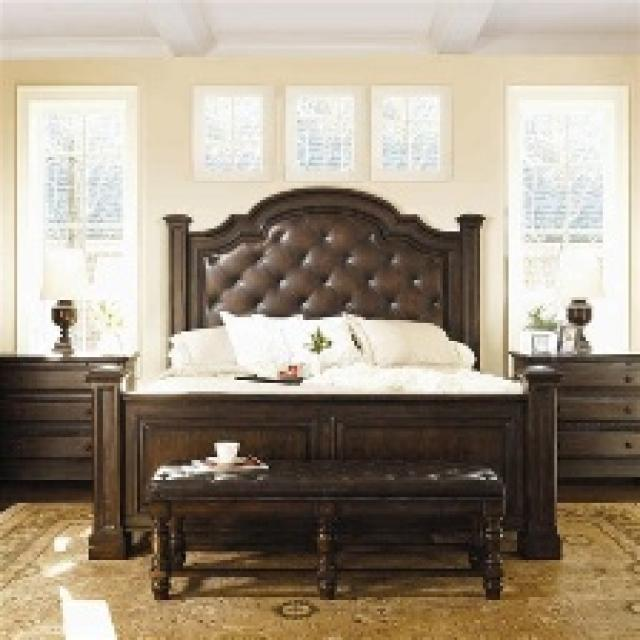Bed: (86, 186, 563, 563)
